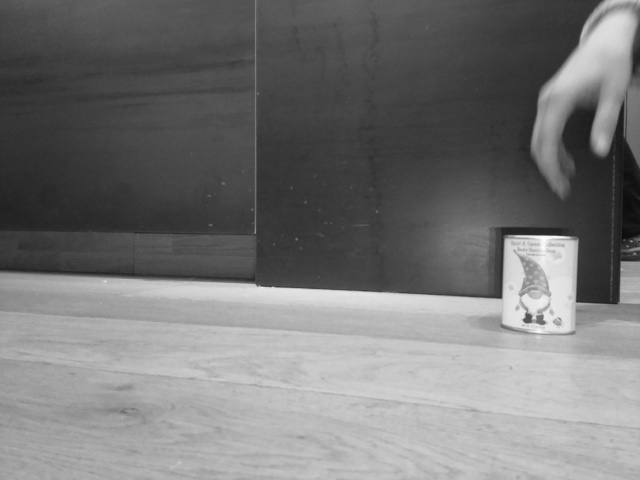gnome: (508, 247, 570, 328)
